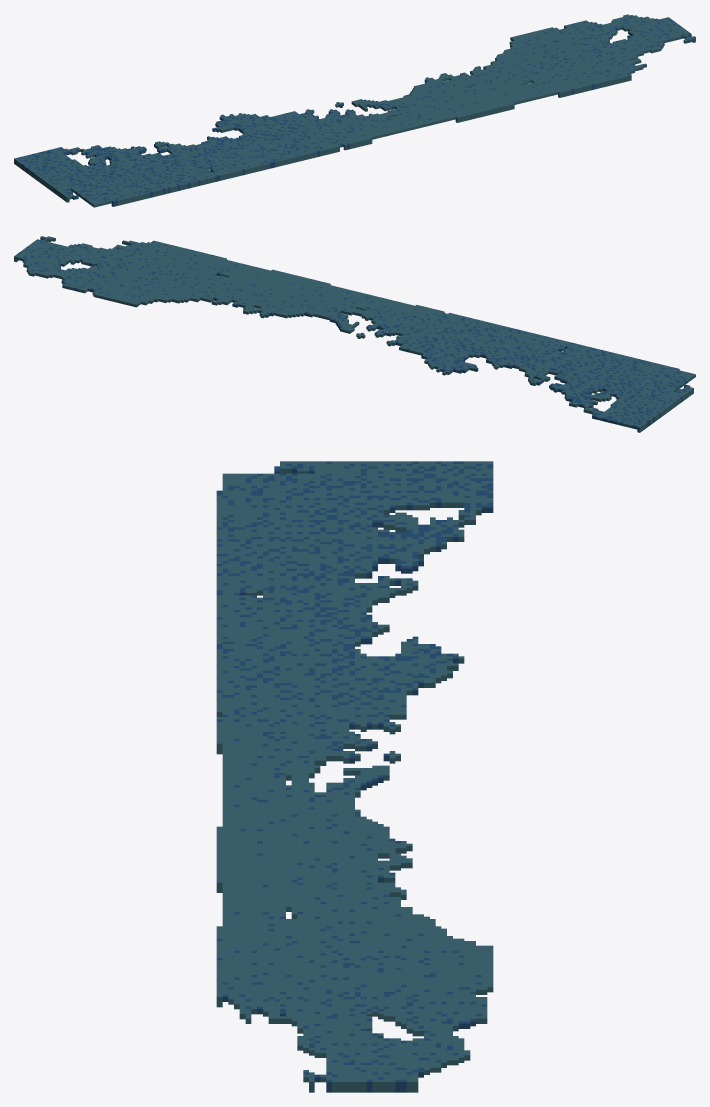
Rendered from Sunken City - Voxel Ruins 2-1-water.obj.
The picture shows the model from 3 angles, top to bottom: view 1: azimuth 30°, elevation 25°; view 2: azimuth 150°, elevation 25°; view 3: azimuth 270°, elevation 25°; orthographic projection. The views are drawn at different scales.
Parts seen in each view (by area): view 1: water; view 2: water; view 3: water.
Part boxes in pixels (x1,y1,x2,y2): water: [14, 14, 695, 207]; water: [14, 236, 695, 432]; water: [216, 461, 493, 1092].
Size of the model in its own units: 25.5 by 0.2 by 4.8.
Materials: 1 (1 with a texture image).
